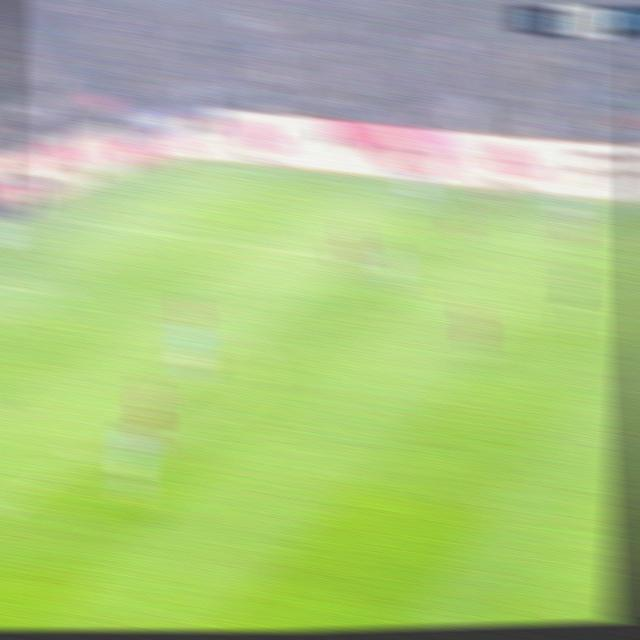bigarea_top_inner: (330, 247, 363, 274)
bigarea_top_outter: (64, 207, 96, 232)
bottom_arc_area_intersection: (63, 437, 99, 471)
corner: (180, 153, 216, 175)
smallarea_top_inner: (37, 277, 76, 308)
top_arc_area_intersection: (224, 319, 261, 352)
